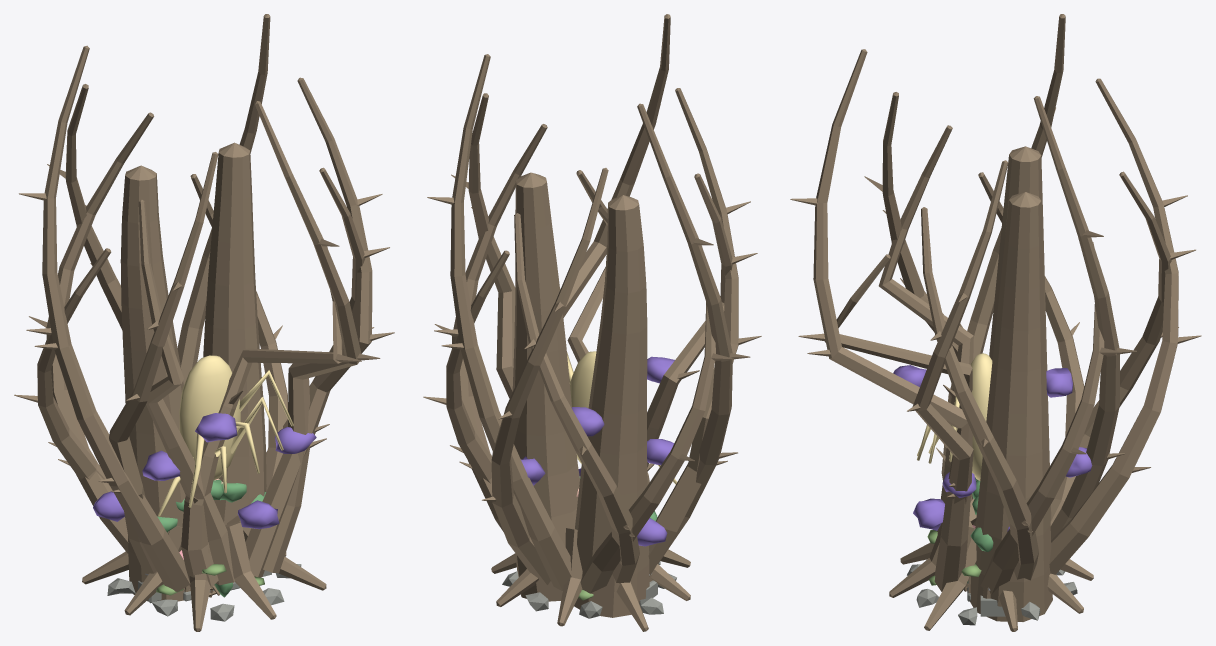
Rendered from CorruptedF33Kit.fbx.
3 views of the same model, side by side, from view 1: azimuth 30°, elevation 25°; view 2: azimuth 150°, elevation 25°; view 3: azimuth 270°, elevation 25° (orthographic).
Visible parts, largest first — view 1: ThornheartKnot__WOOD, ThornheartKnot__GLOW, ThornheartKnot__CAP, ThornheartKnot__STONE, BriarGatehouse__FOLIAGE; view 2: ThornheartKnot__WOOD, ThornheartKnot__CAP, ThornheartKnot__GLOW, ThornheartKnot__STONE; view 3: ThornheartKnot__WOOD, ThornheartKnot__CAP, ThornheartKnot__GLOW, ThornheartKnot__STONE.
Boxes of the visible parts, x1=… form: ThornheartKnot__WOOD: x1=14, y1=14, x2=394, y2=631; ThornheartKnot__GLOW: x1=158, y1=355, x2=293, y2=516; ThornheartKnot__CAP: x1=93, y1=413, x2=316, y2=529; ThornheartKnot__STONE: x1=107, y1=564, x2=301, y2=621; BriarGatehouse__FOLIAGE: x1=157, y1=479, x2=266, y2=532; ThornheartKnot__WOOD: x1=423, y1=14, x2=761, y2=631; ThornheartKnot__CAP: x1=521, y1=356, x2=674, y2=546; ThornheartKnot__GLOW: x1=567, y1=351, x2=677, y2=484; ThornheartKnot__STONE: x1=502, y1=561, x2=676, y2=618; ThornheartKnot__WOOD: x1=790, y1=14, x2=1201, y2=631; ThornheartKnot__CAP: x1=893, y1=365, x2=1092, y2=531; ThornheartKnot__GLOW: x1=917, y1=353, x2=992, y2=480; ThornheartKnot__STONE: x1=907, y1=564, x2=1077, y2=625.
Bounding box in the file's own units: 89.17 × 140 × 96.67.
